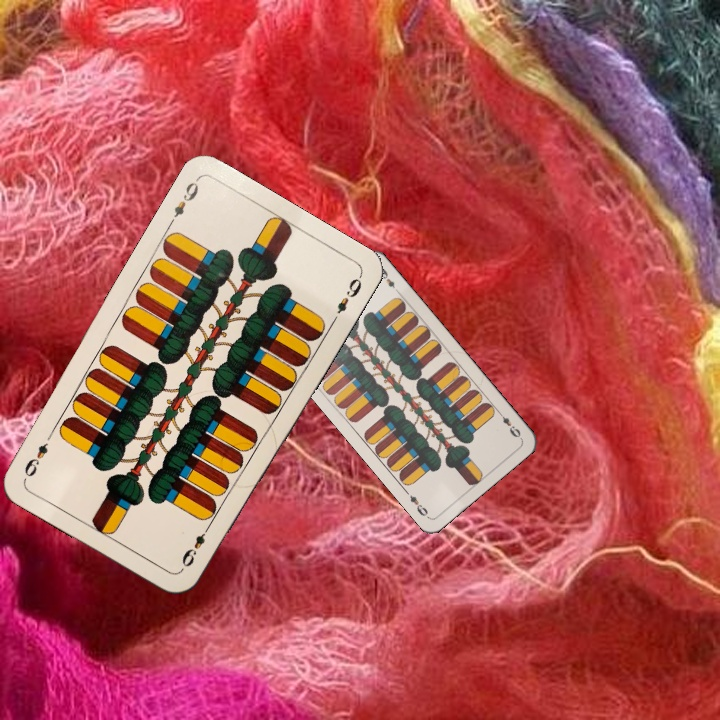E9: (165, 175, 202, 228), (177, 520, 214, 570), (494, 407, 523, 440)
